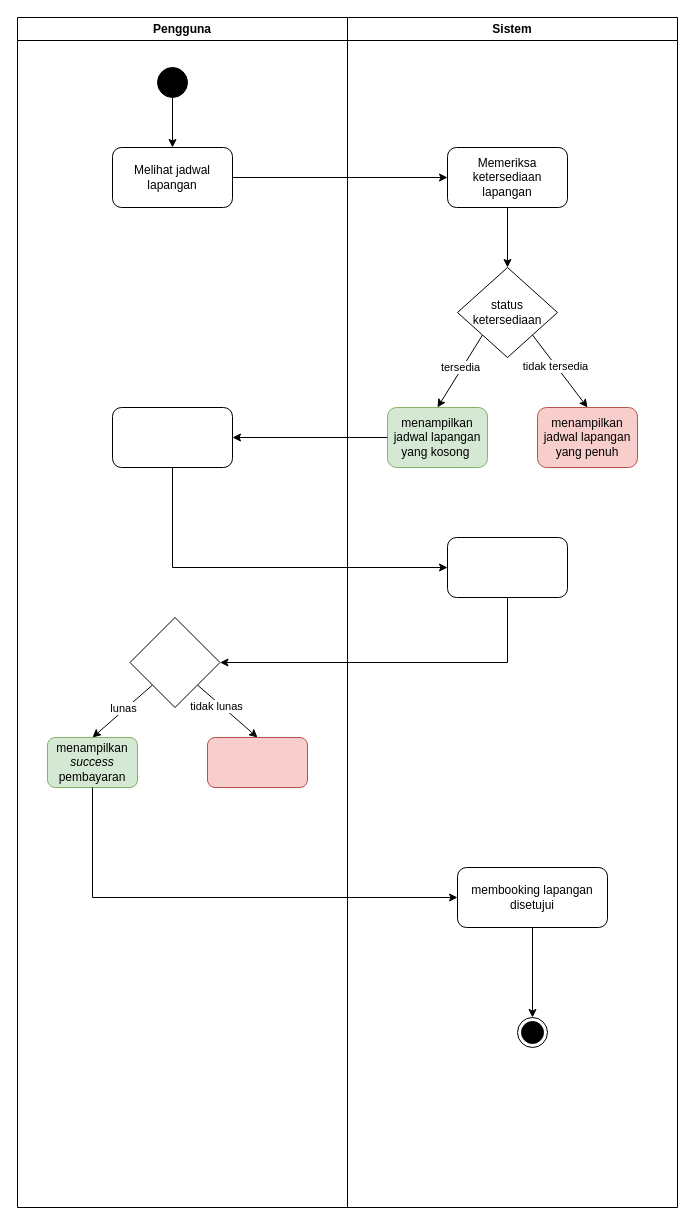
Image size: 695x1225. Some labels were removed from this diagram. The shapes that lost their labels are listed below. From the top down, each one's centre as x and y in pixels, then its label:
the point at 172,437: Melakukan Pemesanan lapangan
the point at 507,567: menampilkan pembayaran untuk membooking lapangan
the point at 174,662: status pembayaran
the point at 257,762: penampilkan pembayaran gagal
